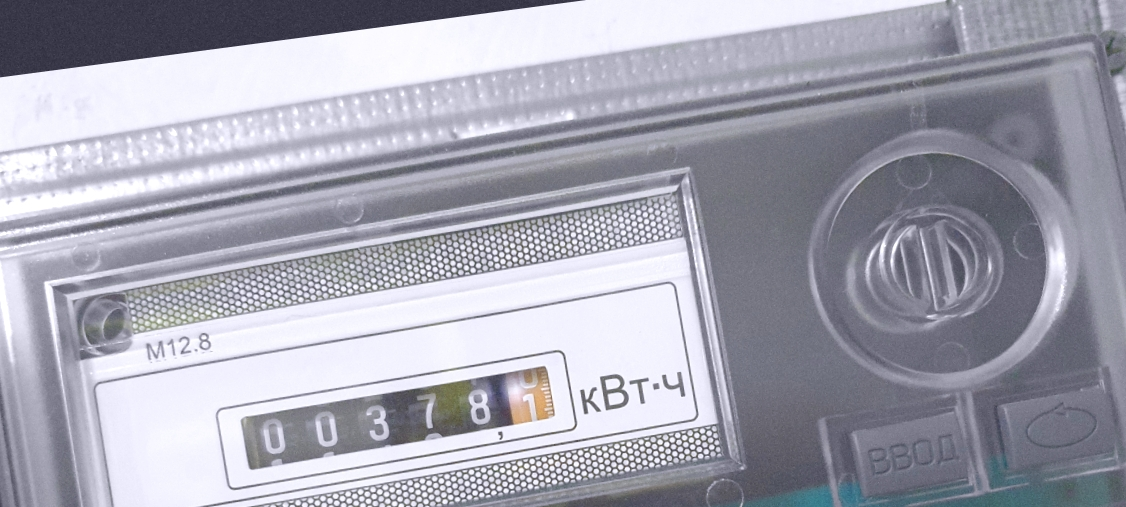0: (258, 413, 290, 456), (311, 407, 340, 449), (515, 366, 540, 390)
1: (518, 389, 541, 423)
3: (361, 400, 392, 444)
7: (413, 389, 441, 431)
8: (464, 384, 493, 427)
screen: (216, 344, 577, 482)
